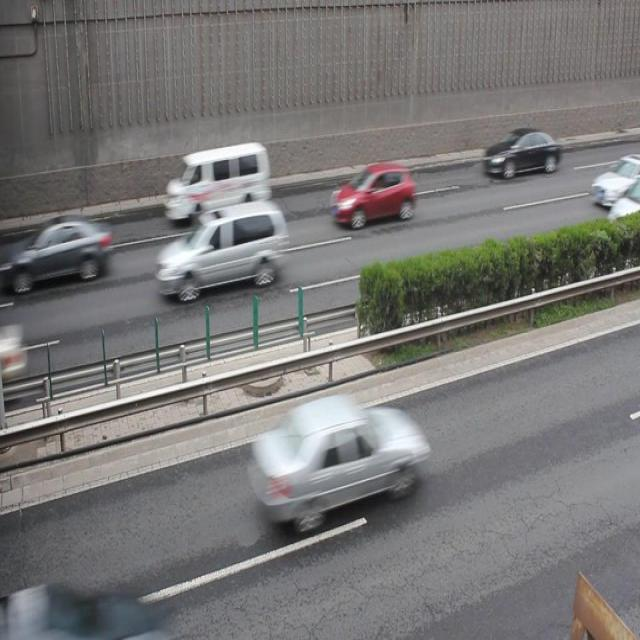car: (248, 396, 424, 524), (155, 202, 286, 297), (15, 215, 109, 292), (331, 162, 413, 226), (483, 128, 560, 178), (589, 155, 640, 206)
truck: (164, 142, 270, 218)
